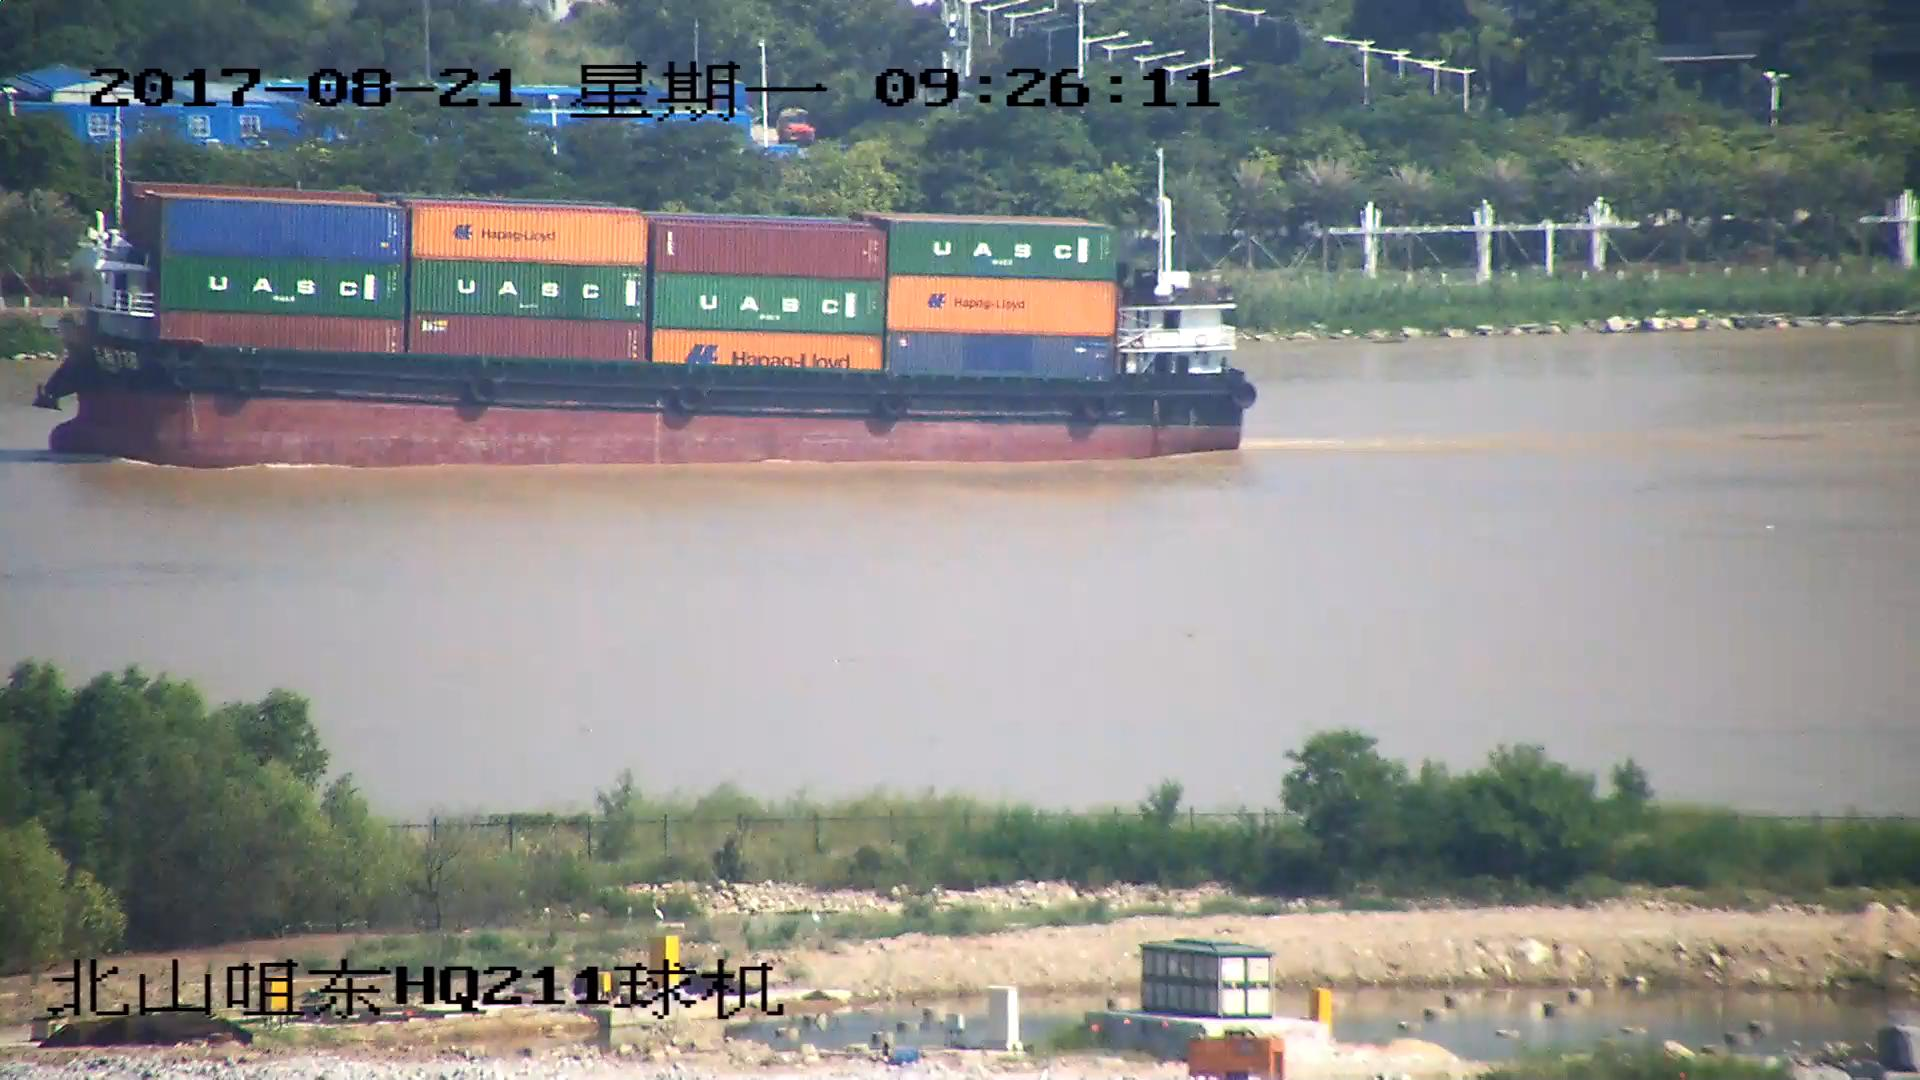container ship: (30, 114, 1255, 467)
